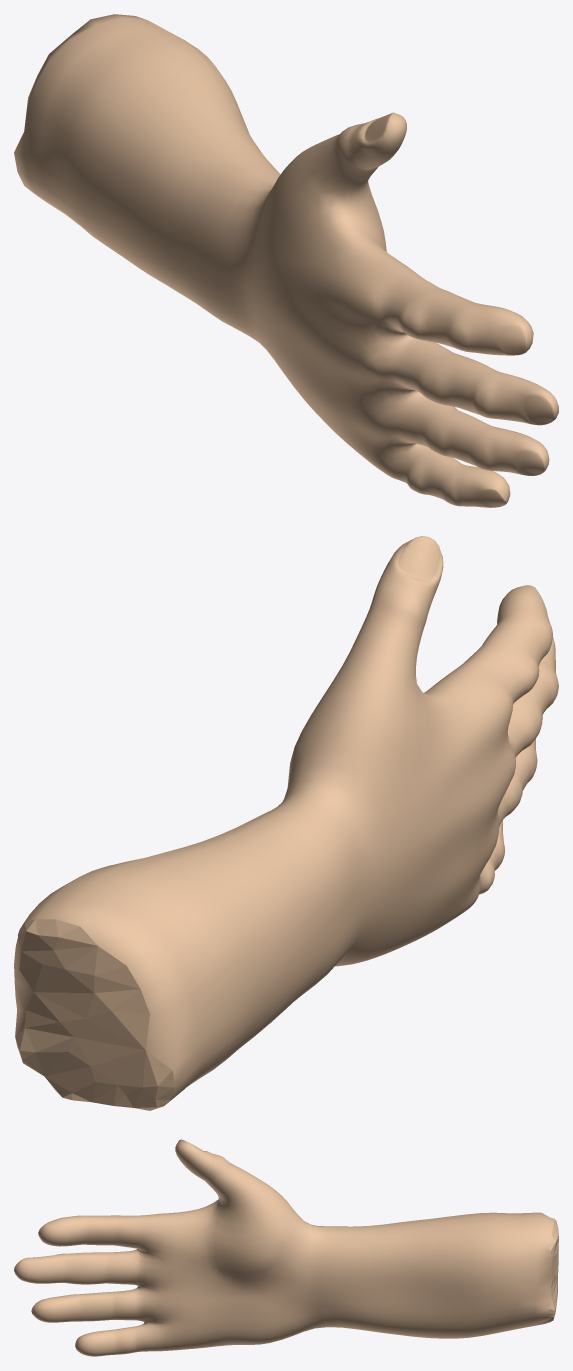
Rendered from hand_20190806b-right.fbx.
3 renders of one model, top to bottom at view 1: azimuth 30°, elevation 25°; view 2: azimuth 150°, elevation 25°; view 3: azimuth 270°, elevation 25°, orthographic. The views are drawn at different scales.
Parts seen in each view (by area): view 1: HandRight; view 2: HandRight; view 3: HandRight.
Part boxes in pixels (x1=…): HandRight: x1=14, y1=14, x2=558, y2=507; HandRight: x1=14, y1=536, x2=558, y2=1110; HandRight: x1=14, y1=1139, x2=558, y2=1356.
Bounding box in the file's own units: 110 × 220 × 513.
